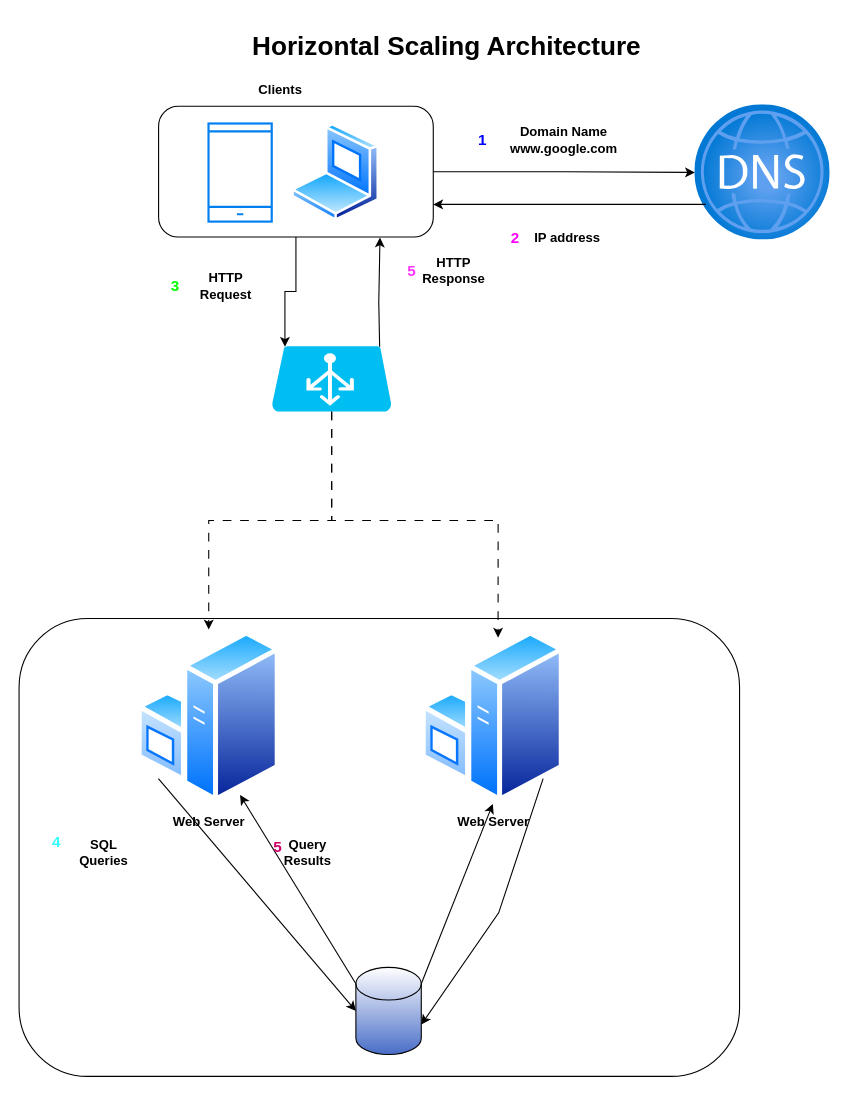
This 849x1095 diagram has some shape labels left out. Here are the shapes that lost their labels. From the top down, the centre of each, then its label:
At [331,378]: "Load Balancer".
At [388,1010]: "Database".
